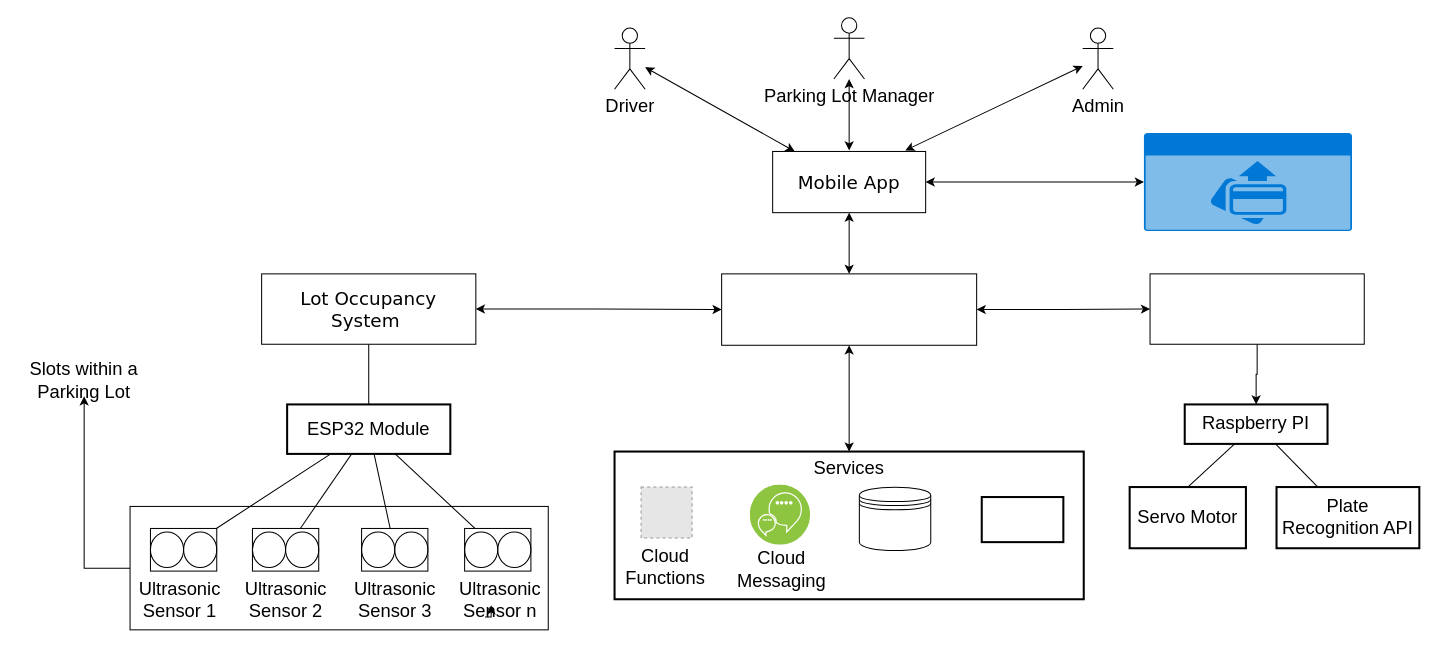
Some shapes in this 1437 by 648 pixel diagram are drawn without their labels. Grey dashed boxes stand in for pictures. The shapes that lost their labels are listed below. From the top down, each one's centre as x and y in pixels, then its label:
At point (1247, 182): "Stripe Payment API".
At point (849, 309): "Firebase Backend-as-a-Service".
At point (1256, 308): "Gate Automation System".
At point (894, 518): "DB".
At point (1022, 519): "Auth".
